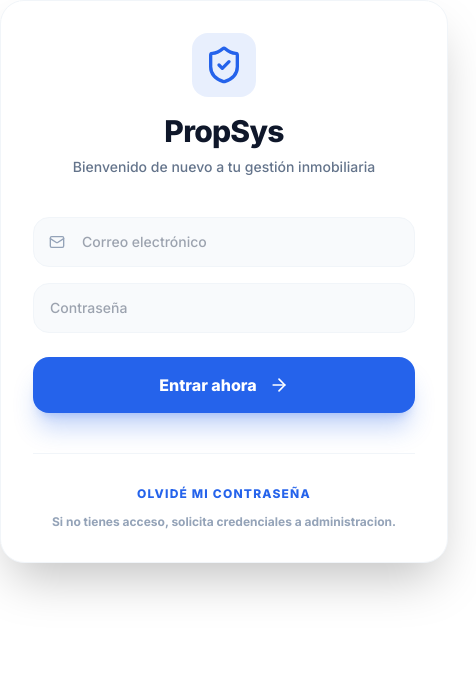
AuthForm › muestra error de login si las credenciales fallan
The width and height of the screenshot is (476, 682).
Type "manager@propsys.com" into the field with placeholder "Correo electrónico". click: (224, 242)
box: [33,217,415,267]
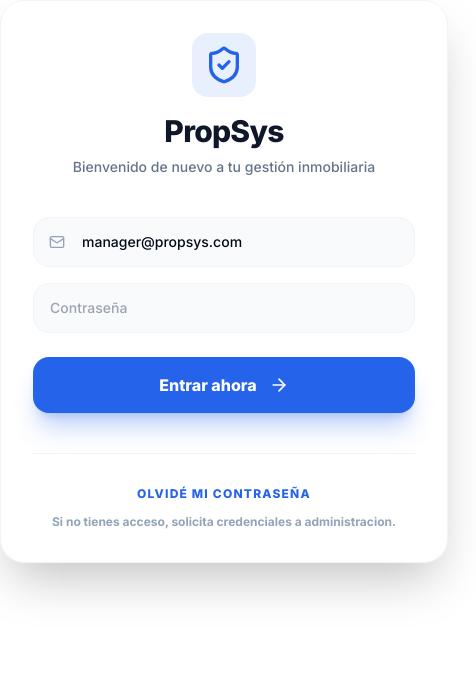
Type "wrong-password" into the password field with placeholder "Contraseña". click: (224, 308)
box: [33,283,415,333]
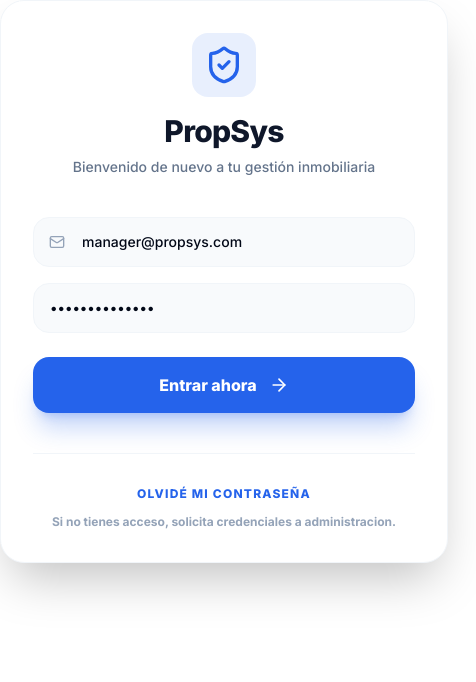
Click the button "Entrar ahora". click: (224, 385)
box: [33,357,415,413]
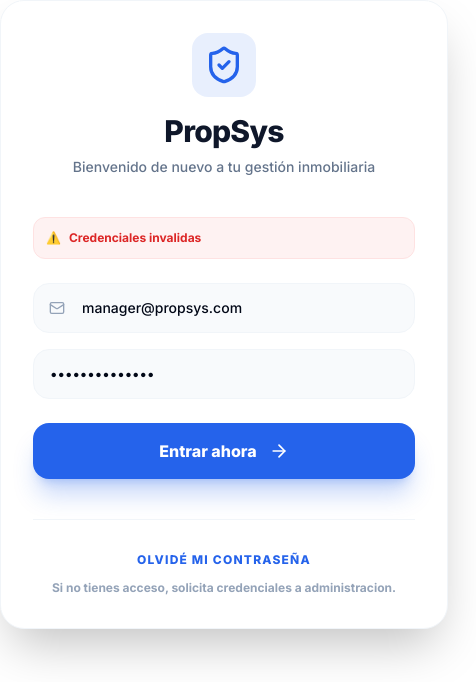
Expected: the message shows "Credenciales invalidas", [69,230,201,245]
